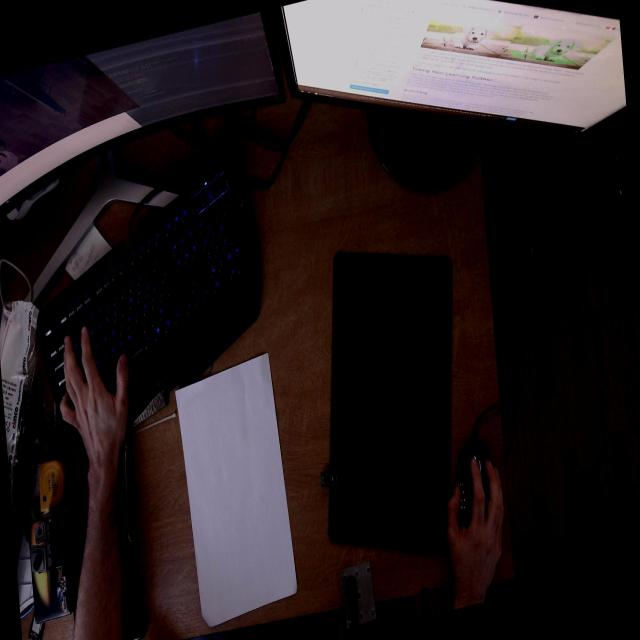keyboard-with-hands: (34, 149, 279, 472)
